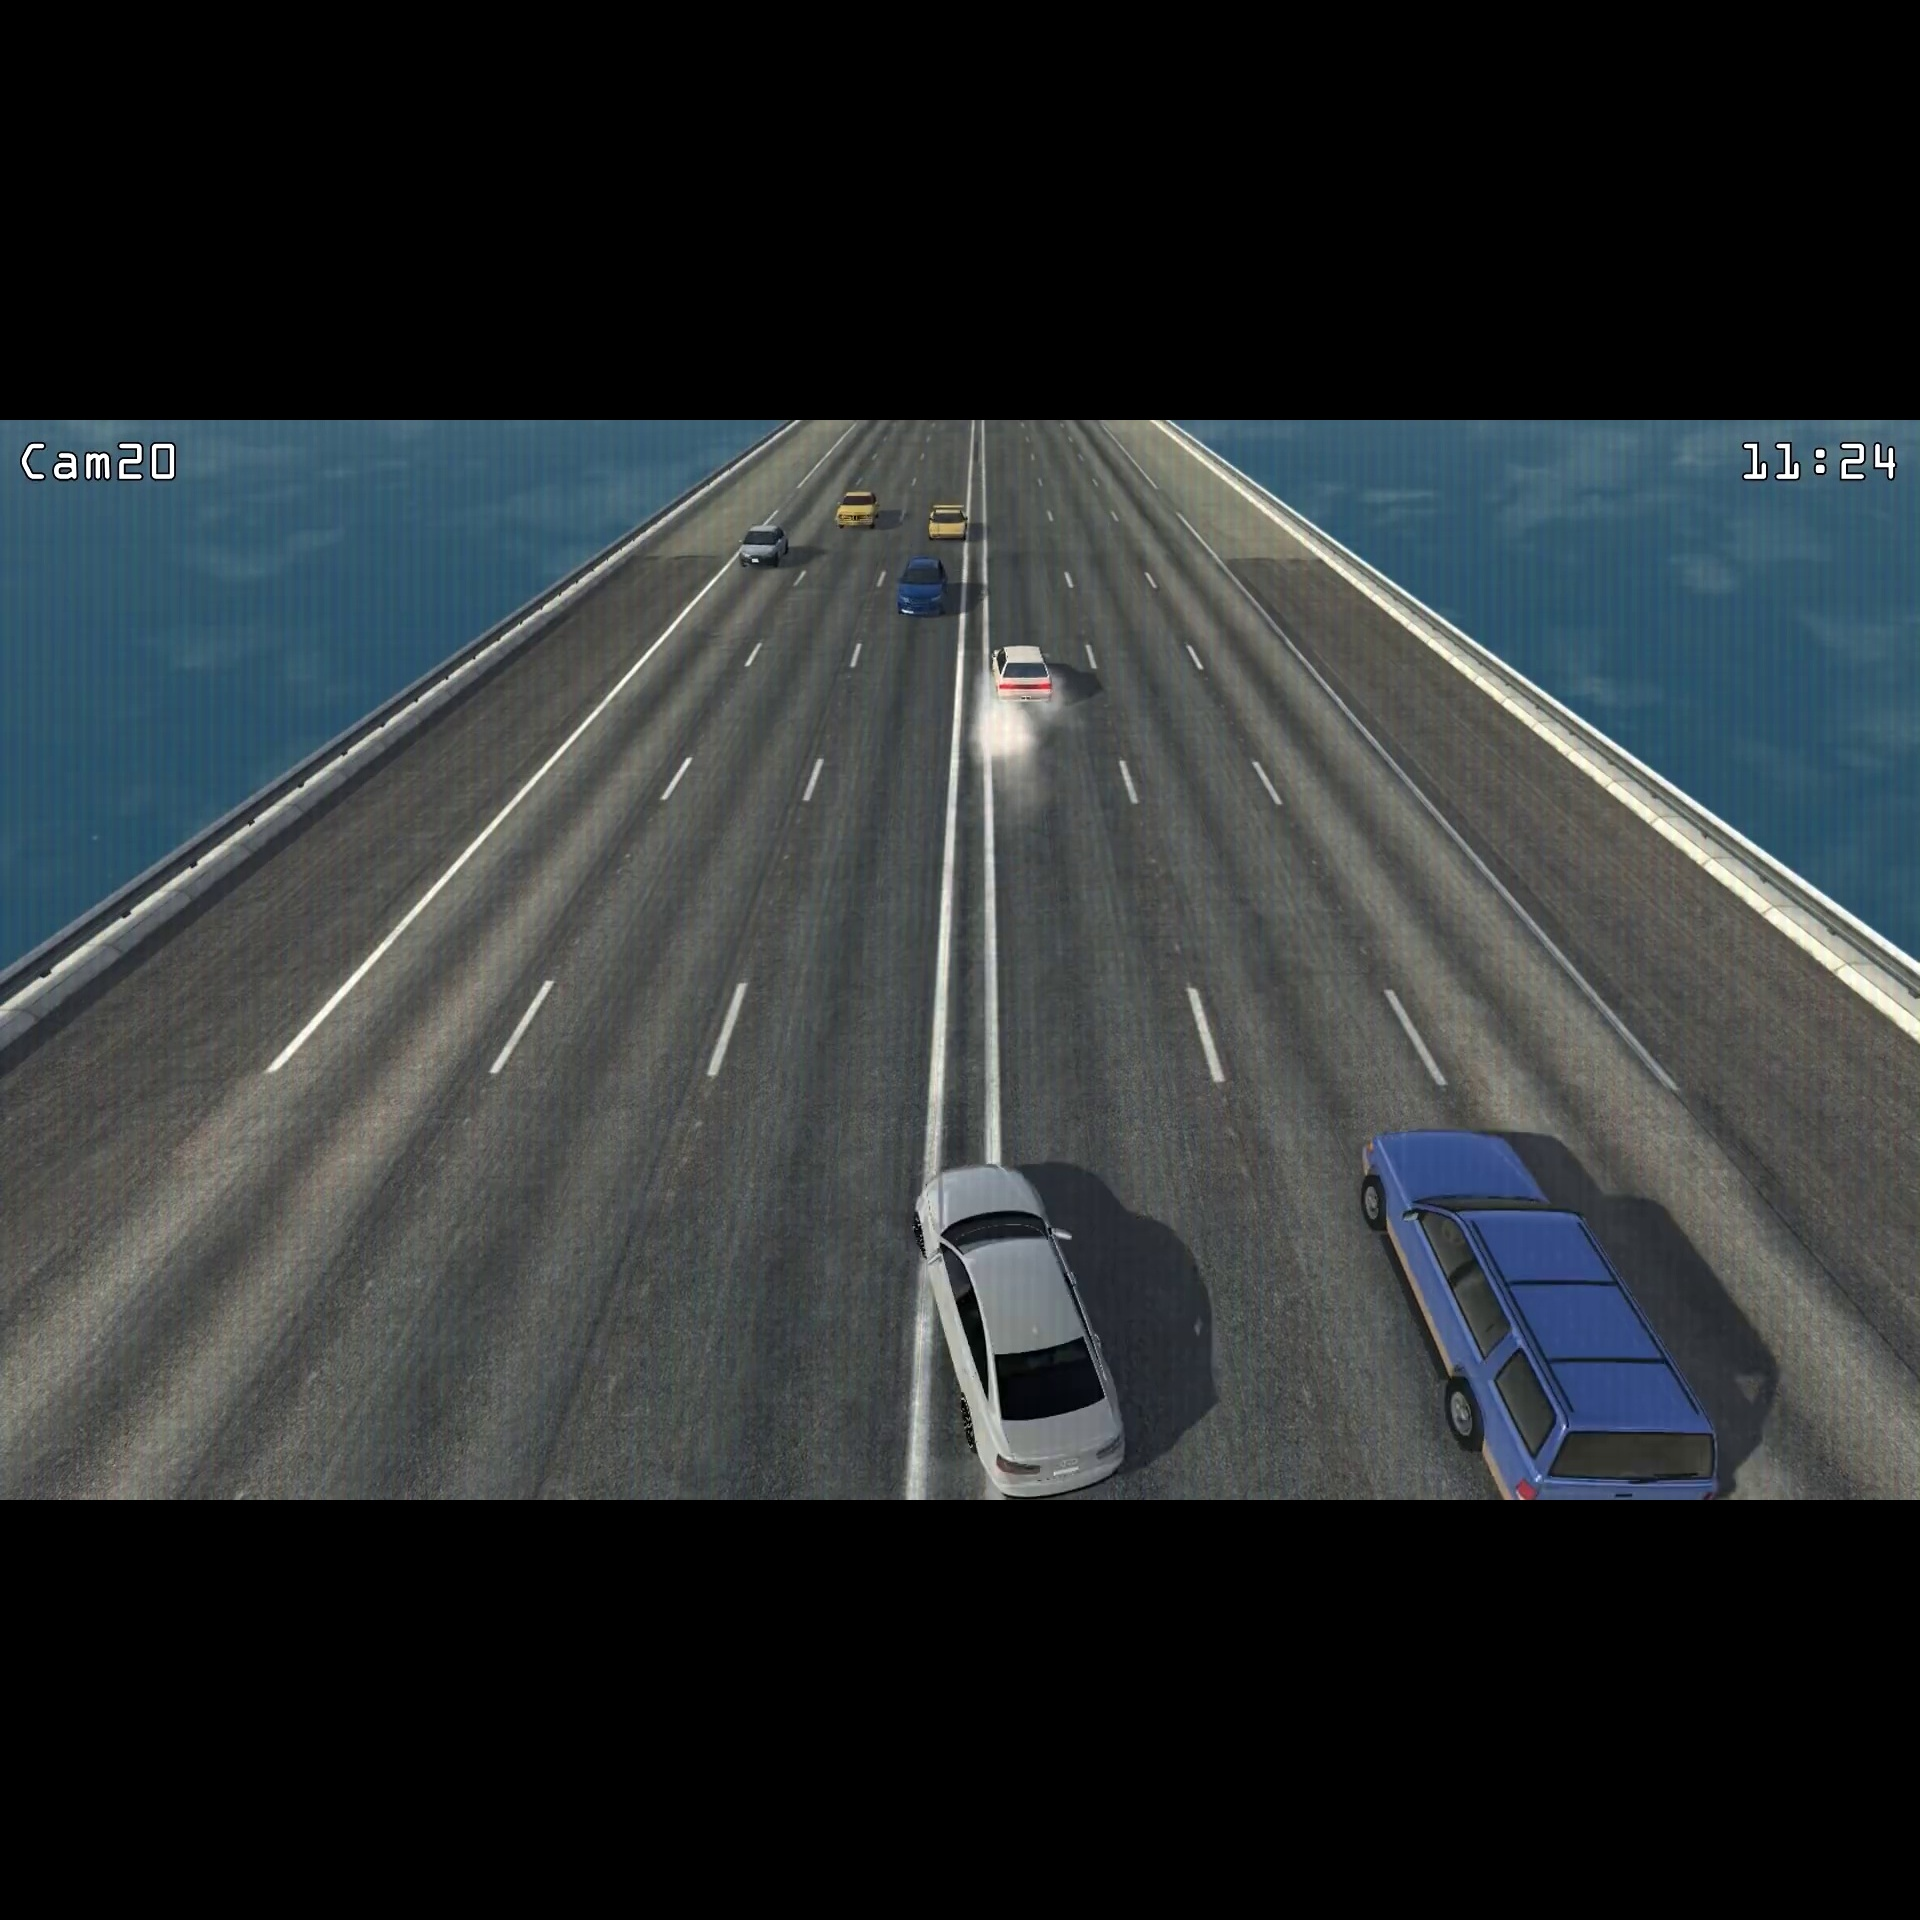vehicle: (1345, 1118, 1734, 1495), (900, 1153, 1134, 1502), (986, 636, 1060, 716), (891, 550, 951, 628), (737, 522, 789, 571), (828, 485, 883, 533), (925, 496, 971, 542)
